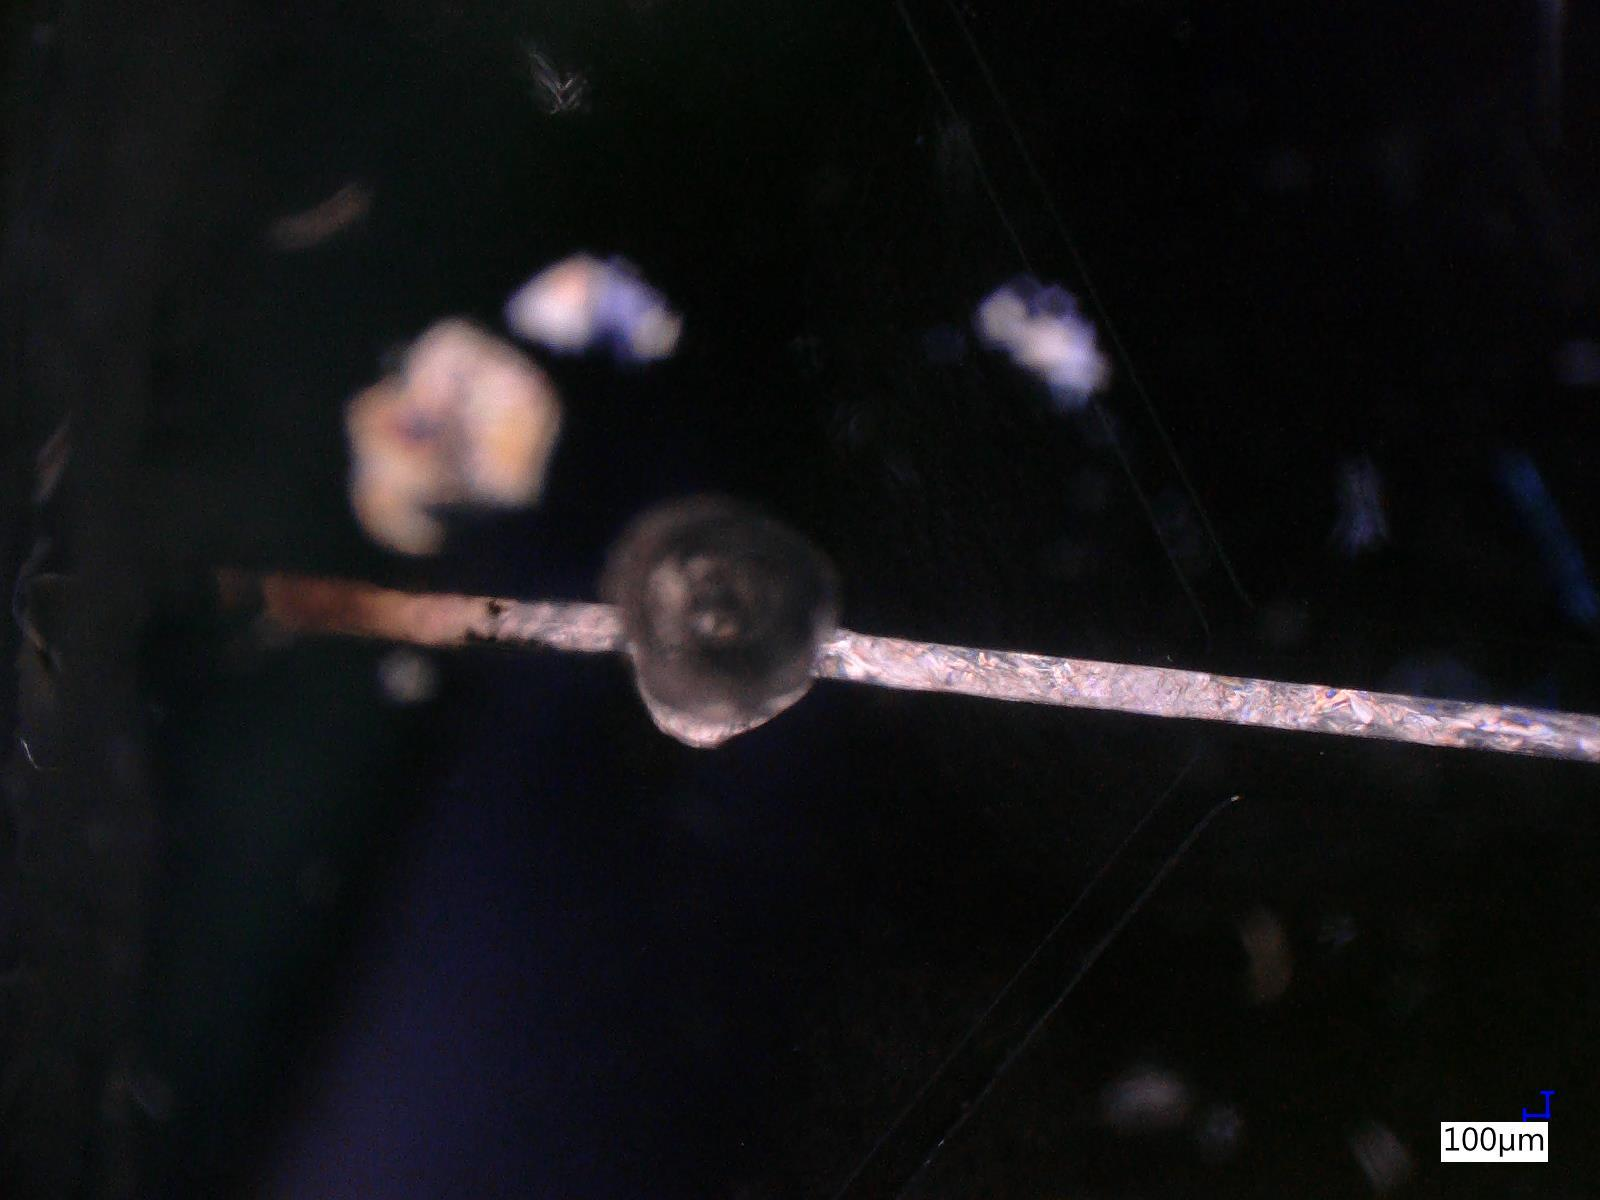sediment: (1068, 661, 1220, 720), (876, 638, 929, 687)
